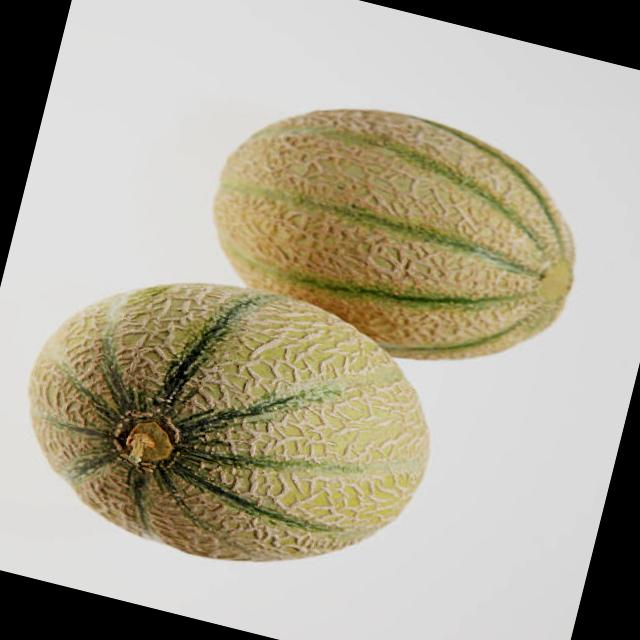cantaloupe: (0, 241, 462, 605), (187, 74, 604, 393)
